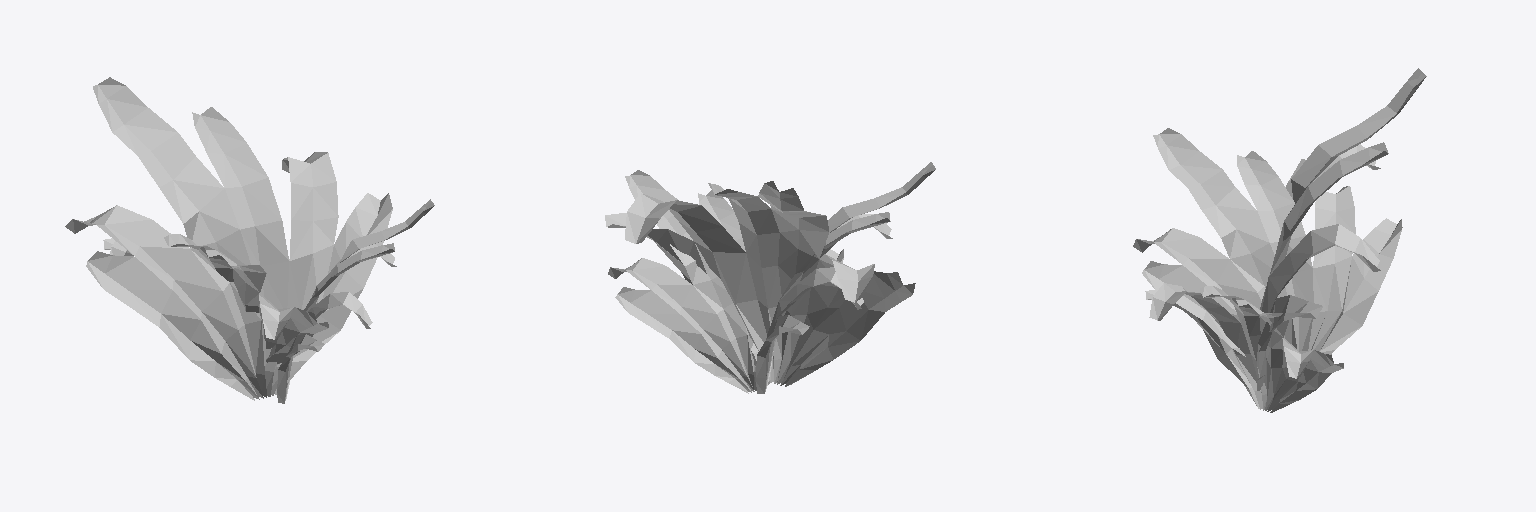
The model's file is arbusto hierba 1.obj.
The picture shows the model from 3 angles: view 1: azimuth 30°, elevation 25°; view 2: azimuth 150°, elevation 25°; view 3: azimuth 270°, elevation 25°; orthographic projection.
Visible parts, largest first — view 1: Plane.216_Plane.229, Plane.218_Plane.231, Plane.217_Plane.230; view 2: Plane.216_Plane.229, Plane.217_Plane.230, Plane.218_Plane.231; view 3: Plane.218_Plane.231, Plane.216_Plane.229, Plane.217_Plane.230.
Part boxes in pixels (bbox=[...]): Plane.216_Plane.229: bbox=[65, 77, 392, 400]; Plane.218_Plane.231: bbox=[103, 234, 328, 363]; Plane.217_Plane.230: bbox=[277, 199, 434, 403]; Plane.216_Plane.229: bbox=[605, 181, 915, 386]; Plane.217_Plane.230: bbox=[608, 170, 843, 393]; Plane.218_Plane.231: bbox=[756, 162, 935, 393]; Plane.218_Plane.231: bbox=[1133, 128, 1402, 356]; Plane.216_Plane.229: bbox=[1257, 68, 1426, 390]; Plane.217_Plane.230: bbox=[1145, 283, 1343, 412].
Bounding box in the file's own units: 1.94 × 1.7 × 1.56.